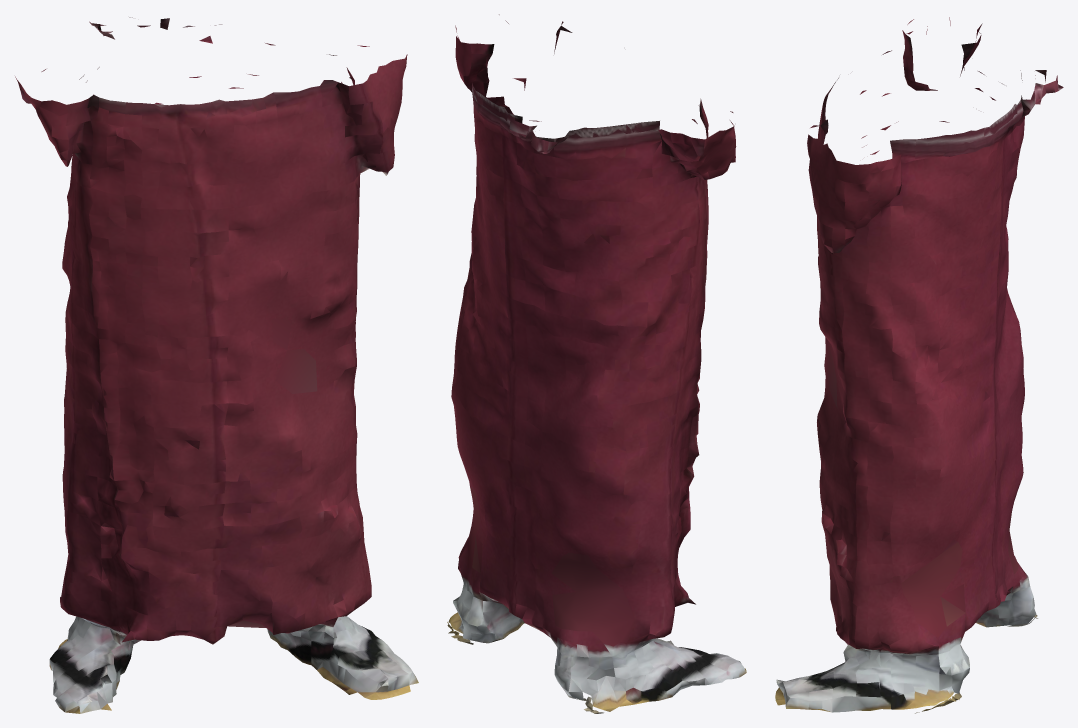
File: toda_base.glb
3 views of the same model, side by side, from view 1: azimuth 30°, elevation 25°; view 2: azimuth 150°, elevation 25°; view 3: azimuth 270°, elevation 25° (orthographic). The views are drawn at different scales.
Parts seen in each view (by area): view 1: base; view 2: base; view 3: base.
Boxes of the visible parts, <box> form: base: <box>15,17,418,713</box>; base: <box>447,14,746,713</box>; base: <box>775,17,1063,713</box>.
Size of the model in its own units: 5.01 by 8.76 by 4.07.
Materials: 2 (2 with a texture image).
